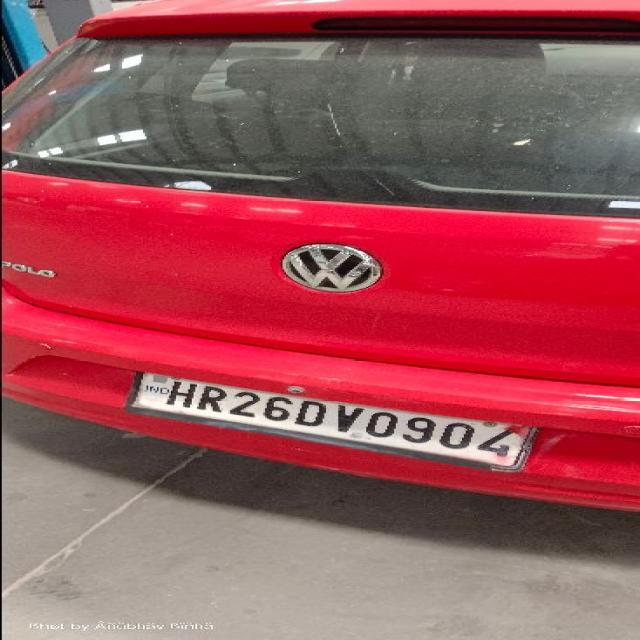license_plate: (125, 370, 540, 472)
